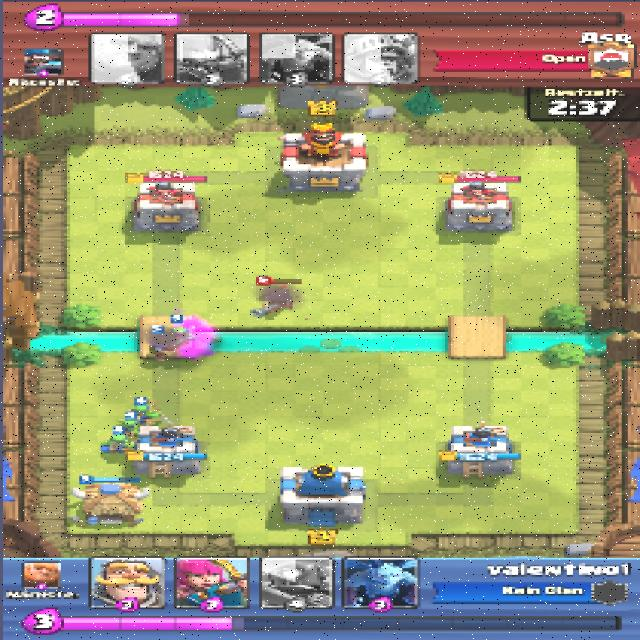Enemy-Musketeer: (252, 285, 296, 316)
Player-GoblinHut: (65, 482, 150, 528)
Player-Musketeer: (147, 332, 193, 362)
Player-SpearGoblin: (125, 403, 168, 421), (98, 434, 136, 454), (163, 326, 198, 344), (114, 419, 143, 436)
